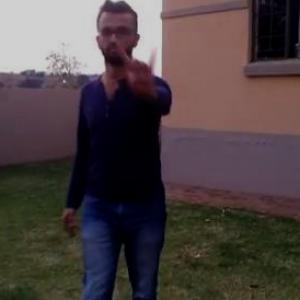takeoff-hand: (113, 30, 166, 98)
